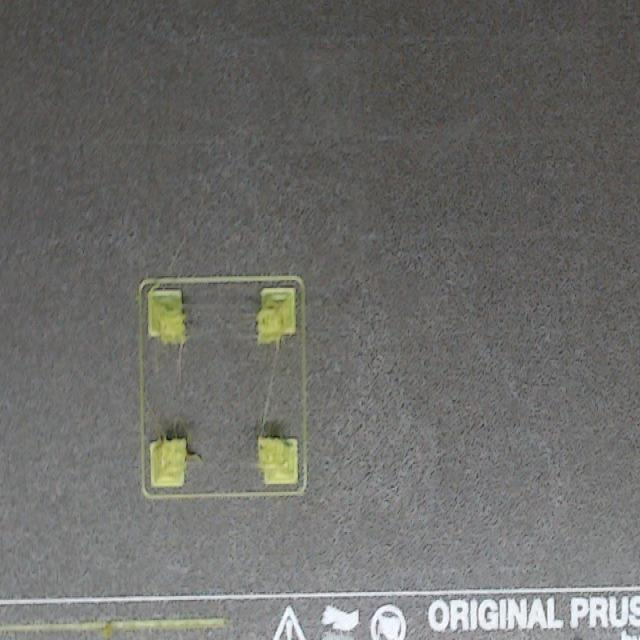mistake: (153, 293, 184, 343), (258, 300, 295, 336), (157, 439, 187, 473), (259, 439, 286, 465)
